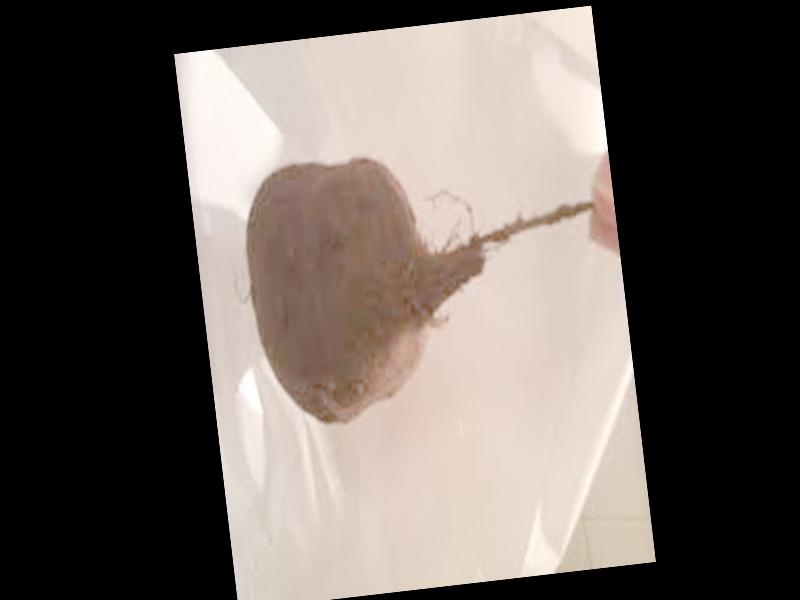Beet: (236, 130, 619, 433)
